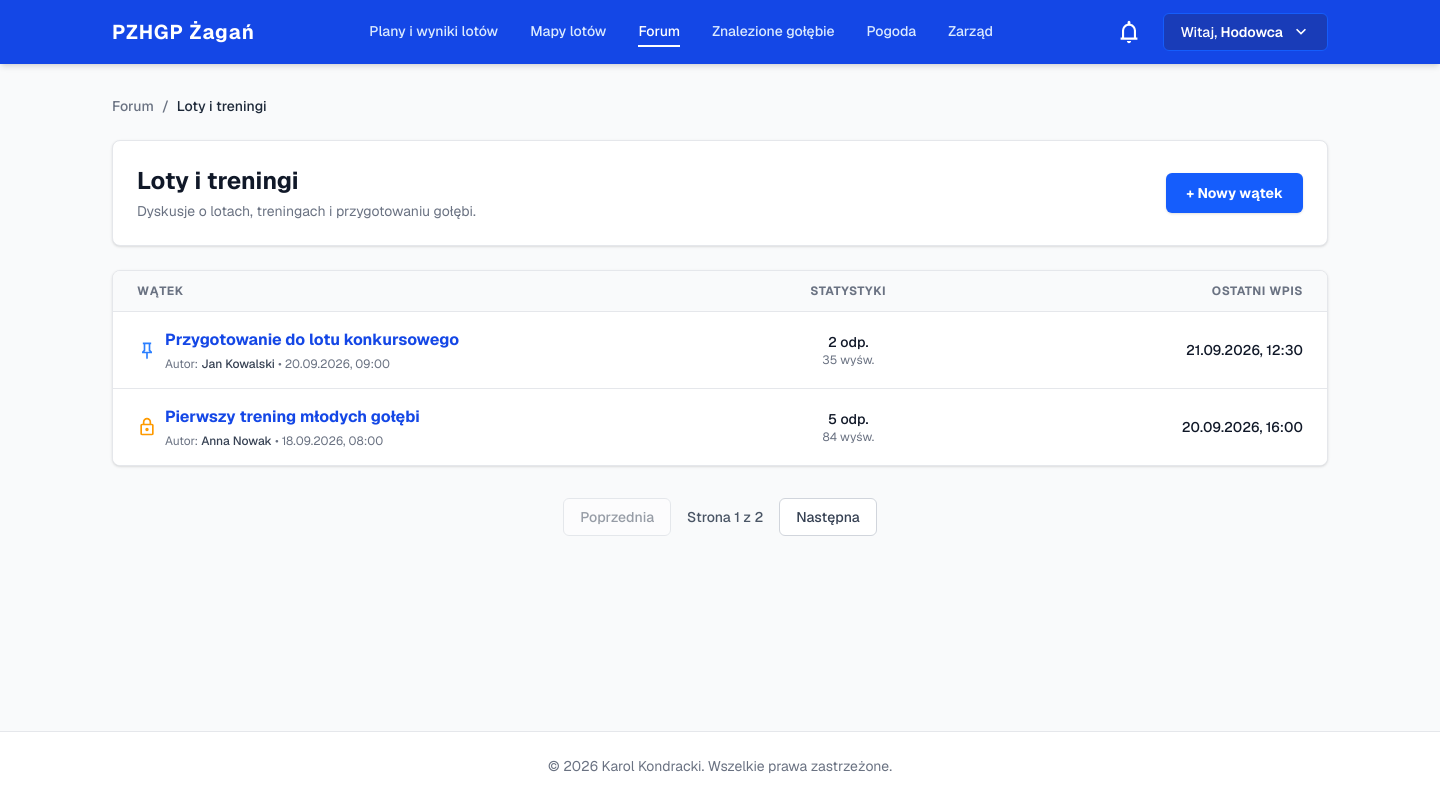
Test case: Forum Category Page Tests › Authenticated User › Should navigate between thread pages
Expected: the text "Strona 1 z 2" is shown, [687,507,763,527]
Expected: the button "Poprzednia" is disabled, [563,498,671,536]
What coordinates should you click on to do the following:
click the button "Następna"
I would click on:
 (828, 517)
Its box is [779,498,876,536].
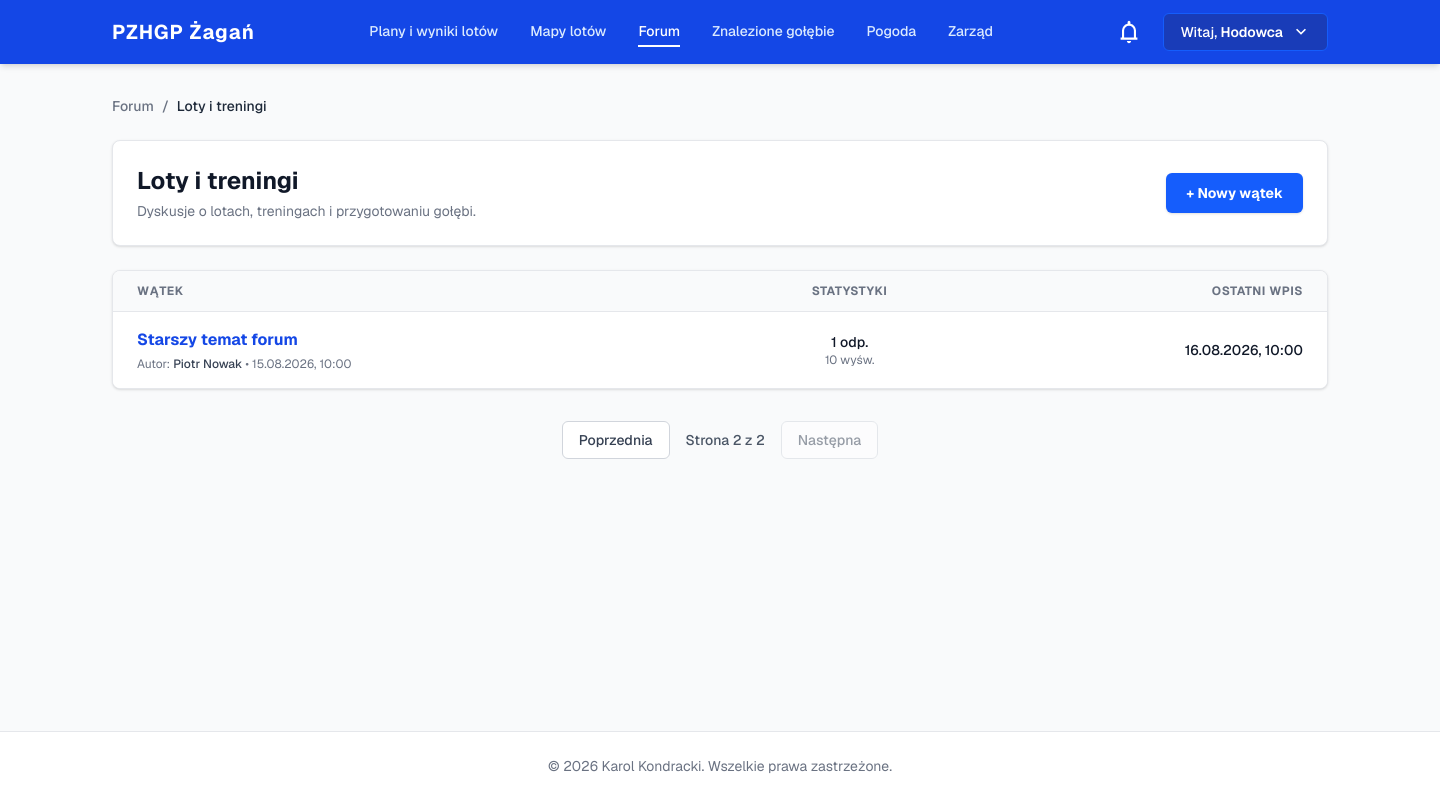
Expected: the text "Strona 2 z 2" is shown, [686,430,765,450]
Expected: the link "Starszy temat forum" is shown, [137,329,298,350]
Expected: the link "Przygotowanie do lotu konkursowego" is gone
What coordinates should you click on to do the following:
click the button "Poprzednia"
I would click on:
 (616, 440)
Its box is [562,421,670,459].
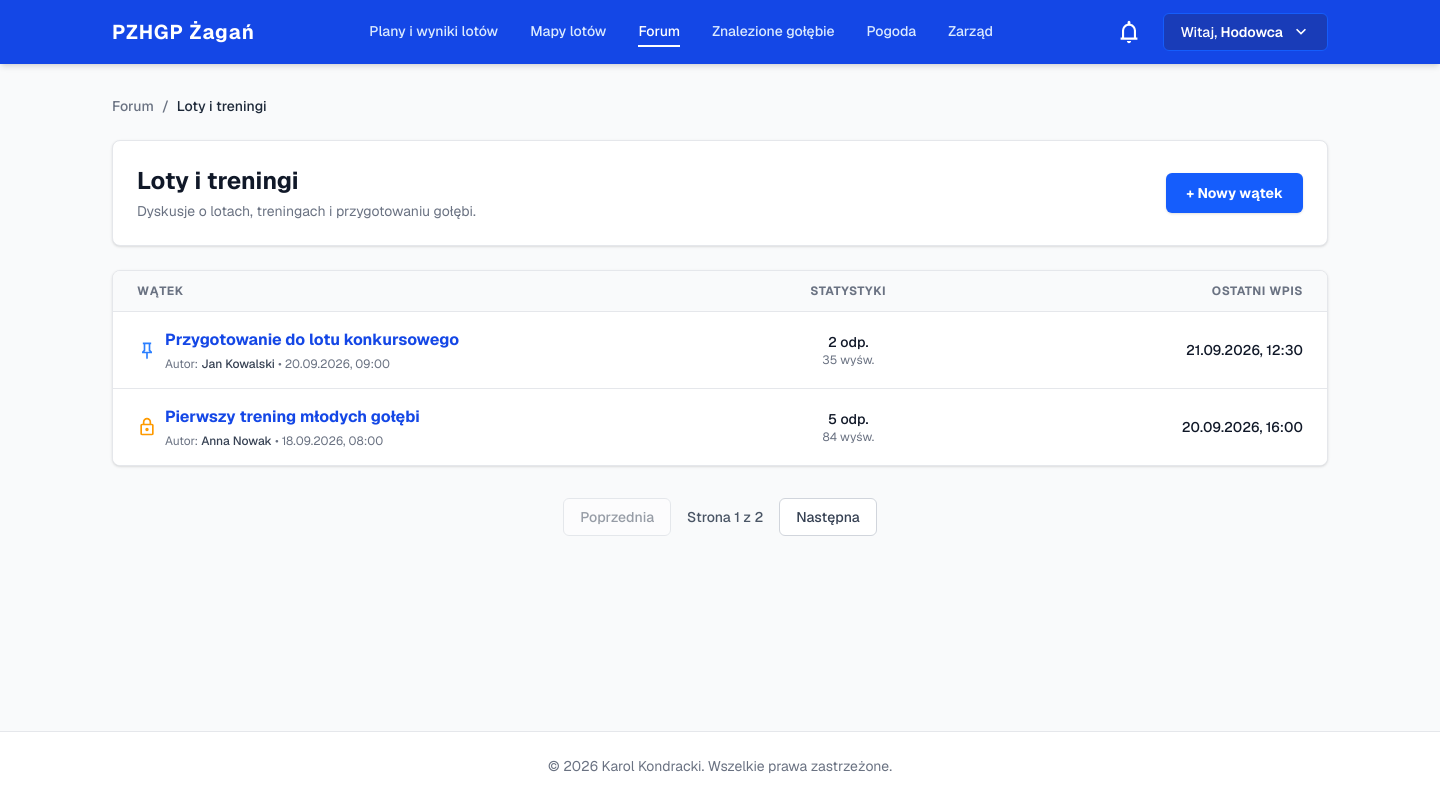
Expected: the text "Strona 1 z 2" is shown, [687,507,763,527]
Expected: the link "Przygotowanie do lotu konkursowego" is shown, [165,329,459,350]
